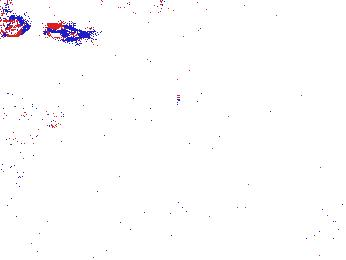X-ray fish: (1, 112, 55, 139), (1, 9, 31, 38), (120, 1, 174, 17)
red belly glassfish: (43, 21, 94, 43), (280, 22, 298, 45)
